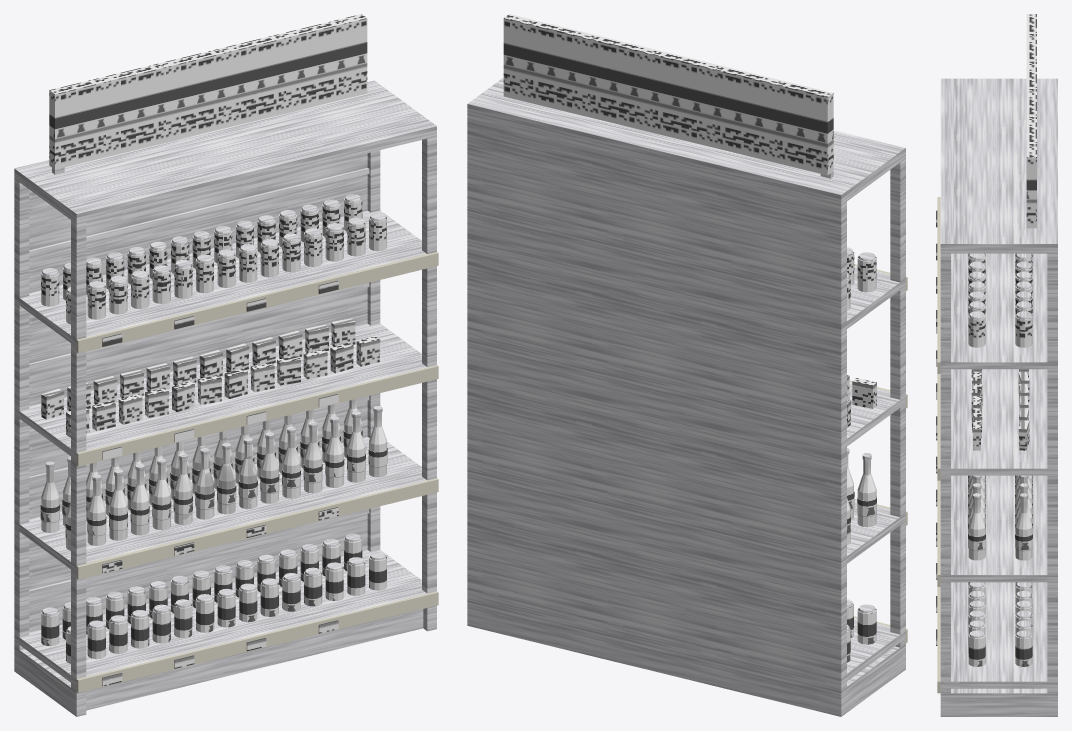
The picture shows the model from 3 angles, left to right: view 1: azimuth 30°, elevation 25°; view 2: azimuth 150°, elevation 25°; view 3: azimuth 270°, elevation 25°; orthographic projection. The views are drawn at different scales.
Parts seen in each view (by area): view 1: metallo_003, metallo_001, stampa_a_009, metallo_000, liscio_005, metallo_004, metallo_002, stampa_a_007, stampa_a_006, vetro_133, vetro_151, vetro_085 (+12 smaller); view 2: metallo_001, stampa_a_009, metallo_003, metallo_000, metallo_004, vetro_073; view 3: metallo_003, metallo_000, metallo_004, stampa_a_009, metallo_001, liscio_005, vetro_154, vetro_157, stampa_a_068, stampa_a_264, stampa_a_066, stampa_a_266 (+4 smaller).
Part boxes in pixels (x1,y1,x2,y2): metallo_003: [14, 82, 436, 686]; metallo_001: [14, 80, 376, 665]; stampa_a_009: [49, 14, 367, 169]; metallo_000: [14, 80, 436, 716]; liscio_005: [76, 252, 438, 692]; metallo_004: [19, 609, 423, 713]; metallo_002: [29, 168, 369, 595]; stampa_a_007: [102, 333, 338, 633]; stampa_a_006: [102, 280, 338, 686]; vetro_133: [282, 433, 300, 498]; vetro_151: [347, 417, 365, 482]; vetro_085: [109, 476, 127, 540]; metallo_001: [467, 104, 843, 715]; stampa_a_009: [503, 14, 833, 175]; metallo_003: [467, 77, 905, 685]; metallo_000: [467, 100, 905, 716]; metallo_004: [844, 646, 901, 714]; vetro_073: [857, 460, 876, 527]; metallo_003: [940, 78, 1057, 688]; metallo_000: [940, 78, 1057, 716]; metallo_004: [949, 688, 1052, 716]; stampa_a_009: [1026, 14, 1036, 228]; metallo_001: [1052, 79, 1057, 716]; liscio_005: [937, 197, 941, 693]; vetro_154: [1015, 499, 1032, 560]; vetro_157: [968, 499, 985, 560]; stampa_a_068: [968, 634, 985, 666]; stampa_a_264: [1015, 314, 1032, 347]; stampa_a_066: [1015, 634, 1032, 666]; stampa_a_266: [968, 315, 985, 347].
Bounding box in the file's own units: 1.5 × 2.32 × 0.467.
18 materials, 17 textured.
